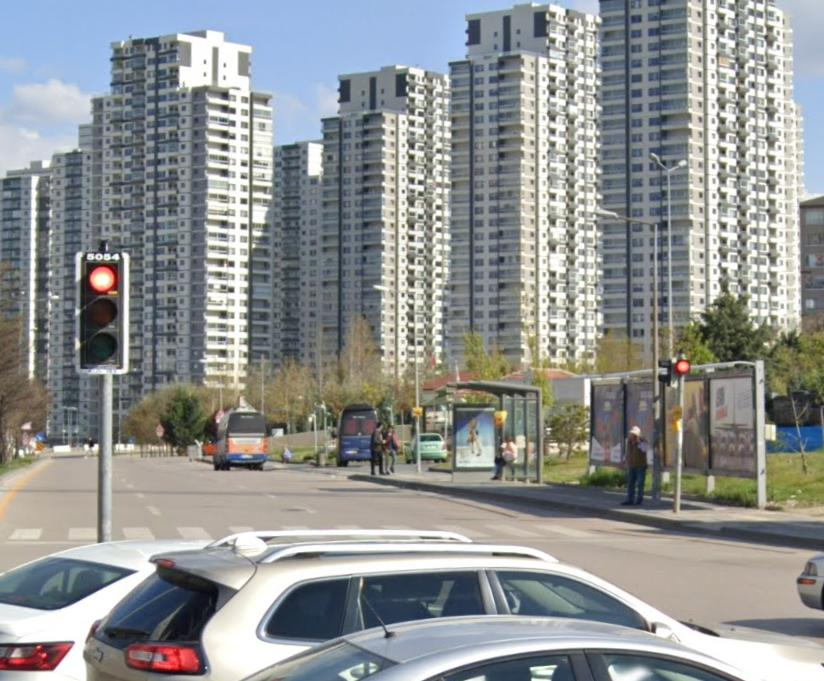redlight: (76, 255, 128, 373), (675, 356, 690, 379)
